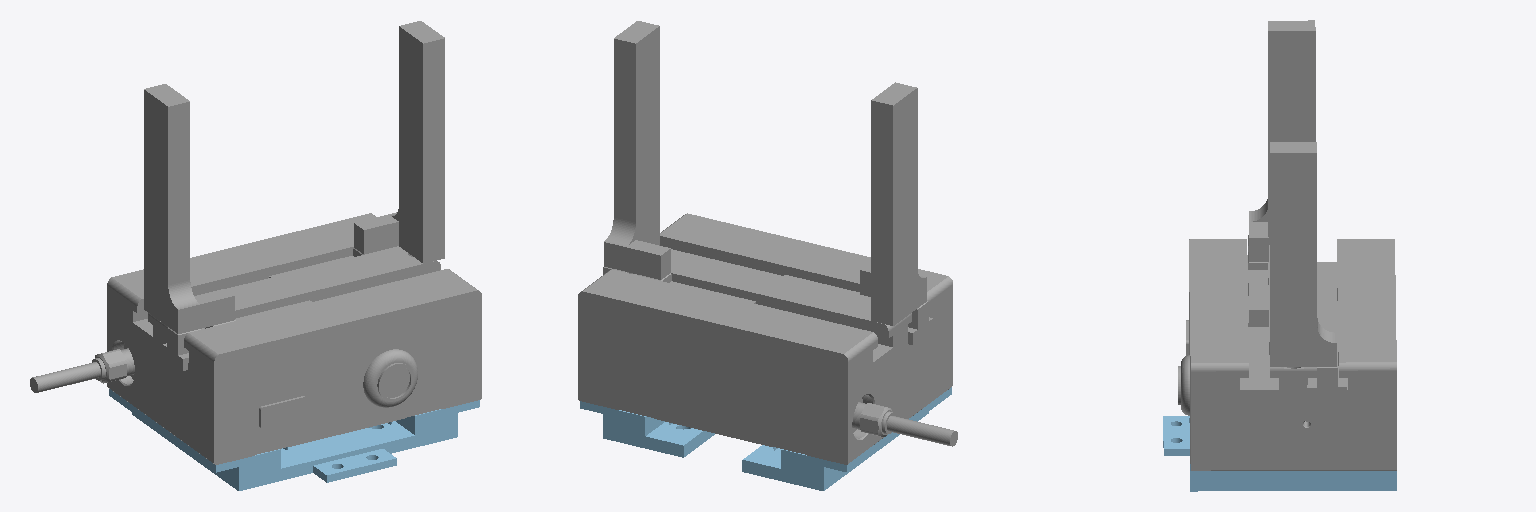
robot.urdf — onshape:
<?xml version="1.0"?>
<robot name="onshape">
<link name="ffld_0850ncn30_lksr00_0__6">
<visual>
<origin xyz="0.057499581136592189945 0.0002219151046475575928 0.012999999465240053009" rpy="1.5707963197624172924 -9.3043403012065366432e-09 -3.1383258088491423621" />
<geometry>
<mesh filename="package://hc10_with_hand/meshes/end_effector/ffld_0850ncn30_lksr00_0__6.stl"/>
</geometry>
<material name="ffld_0850ncn30_lksr00_0__6_material">
<color rgba="0.68627450980392157298 0.68627450980392157298 0.68627450980392157298 1.0"/>
</material>
</visual>
<collision>
<origin xyz="0.057499581136592189945 0.0002219151046475575928 0.012999999465240053009" rpy="1.5707963197624172924 -9.3043403012065366432e-09 -3.1383258088491423621" />
<geometry>
<mesh filename="package://hc10_with_hand/meshes/end_effector/ffld_0850ncn30_lksr00_0__6.stl"/>
</geometry>
</collision>
<visual>
<origin xyz="0.05749958580022360155 0.00022191160362493300706 0.51299999946524066363" rpy="1.5707963197624170704 -9.3043400791619201376e-09 -3.138325808849141918" />
<geometry>
<mesh filename="package://hc10_with_hand/meshes/end_effector/support_end_effector.stl"/>
</geometry>
<material name="support_end_effector_material">
<color rgba="0.61568627450980395466 0.81176470588235294379 0.92941176470588238168 1.0"/>
</material>
</visual>
<collision>
<origin xyz="0.05749958580022360155 0.00022191160362493300706 0.51299999946524066363" rpy="1.5707963197624170704 -9.3043400791619201376e-09 -3.138325808849141918" />
<geometry>
<mesh filename="package://hc10_with_hand/meshes/end_effector/support_end_effector.stl"/>
</geometry>
</collision>
<inertial>
<origin xyz="-0.00017126631209801696865 -0.00032653912656861961089 0.030493844274670250938" rpy="0 0 0"/>
<mass value="3.4288288466821317257" />
<inertia ixx="0.0026643899238821475151" ixy="1.9310818192341067736e-05"  ixz="-1.8863578809773853332e-06" iyy="0.0046541737804580655263" iyz="-2.722204356959638443e-05" izz="0.0057254196930952875808" />
</inertial>
</link>

<link name="center_finger">
<inertial>
<origin xyz="0 0 0" rpy="0 0 0" />
<mass value="1e-9" />
<inertia ixx="0" ixy="0" ixz="0" iyy="0" iyz="0" izz="0" />
</inertial>
</link>
<joint name="center_finger_frame" type="fixed">
<origin xyz="-1.1077846807888816674e-07 3.4070920897401199773e-05 0.14800000000023966207" rpy="9.3043391731287407411e-09 -7.0324789191894066792e-09 1.574063171535547534" />
<parent link="ffld_0850ncn30_lksr00_0__6" />
<child link="center_finger" />
<axis xyz="0 0 0"/>
</joint>

<link name="end_effector_center">
<inertial>
<origin xyz="0 0 0" rpy="0 0 0" />
<mass value="1e-9" />
<inertia ixx="0" ixy="0" ixz="0" iyy="0" iyz="0" izz="0" />
</inertial>
</link>
<joint name="end_effector_center_frame" type="fixed">
<origin xyz="1.2125441276045201278e-10 -9.1026602921928656542e-11 0.012999999999999997669" rpy="9.3043401069174907901e-09 -7.0324793788390369411e-09 1.5740631715355455356" />
<parent link="ffld_0850ncn30_lksr00_0__6" />
<child link="end_effector_center" />
<axis xyz="0 0 0"/>
</joint>

<link name="arm_to_hand">
<inertial>
<origin xyz="0 0 0" rpy="0 0 0" />
<mass value="1e-9" />
<inertia ixx="0" ixy="0" ixz="0" iyy="0" iyz="0" izz="0" />
</inertial>
</link>
<joint name="arm_to_hand_frame" type="fixed">
<origin xyz="0 0 0" rpy="7.0324800430257777421e-09 9.3043403012065234083e-09 0.003266844740651022802" />
<parent link="arm_to_hand" />
<child link="ffld_0850ncn30_lksr00_0__6" />
<axis xyz="0 0 0"/>
</joint>

<link name="hand_to_camera">
<inertial>
<origin xyz="0 0 0" rpy="0 0 0" />
<mass value="1e-9" />
<inertia ixx="0" ixy="0" ixz="0" iyy="0" iyz="0" izz="0" />
</inertial>
</link>
<joint name="hand_to_camera_frame" type="fixed">
<origin xyz="-0.0073555144854190873671 -0.044240193231909627491 0.002999999758834949893" rpy="7.0324804106860020408e-09 9.3043403012065366432e-09 0.0032668447406510223684" />
<parent link="ffld_0850ncn30_lksr00_0__6" />
<child link="hand_to_camera" />
<axis xyz="0 0 0"/>
</joint>

<link name="ffld_0850ncn30_lksr00_0__3">
<visual>
<origin xyz="-0.013499999999999998113 -0.012699999999999997749 0.009799999999999940703" rpy="1.570796326794896558 1.570796326794896336 0" />
<geometry>
<mesh filename="package://hc10_with_hand/meshes/end_effector/ffld_0850ncn30_lksr00_0__3.stl"/>
</geometry>
<material name="ffld_0850ncn30_lksr00_0__3_material">
<color rgba="0.68627450980392157298 0.68627450980392157298 0.68627450980392157298 1.0"/>
</material>
</visual>
<collision>
<origin xyz="-0.013499999999999998113 -0.012699999999999997749 0.009799999999999940703" rpy="1.570796326794896558 1.570796326794896336 0" />
<geometry>
<mesh filename="package://hc10_with_hand/meshes/end_effector/ffld_0850ncn30_lksr00_0__3.stl"/>
</geometry>
</collision>
<inertial>
<origin xyz="0.026010155325234741996 -0.0047355803699542942803 -0.0032141138333249830161" rpy="0 0 0"/>
<mass value="0.19285564776873392878" />
<inertia ixx="5.5202859436152247683e-05" ixy="-2.9112780924458249069e-05"  ixz="-5.23746968336353535e-05" iyy="0.00024511850474100843611" iyz="-1.2232725957805765321e-05" izz="0.00021268038410786007817" />
</inertial>
</link>

<joint name="fing1" type="fixed">
<origin xyz="-0.049999844811295074409 -0.0001292703954122835508 0.058000000465456696963" rpy="0.0032668447406510748438 -1.5707963151318564687 0" />
<parent link="ffld_0850ncn30_lksr00_0__6" />
<child link="ffld_0850ncn30_lksr00_0__3" />
<axis xyz="0 0 1"/>
<limit effort="1" velocity="20" lower="0" upper="0.050000000000000002776"/>
<joint_properties friction="0.0"/>
</joint>

<link name="ffld_0850ncn30_lksr00_0__3_2">
<visual>
<origin xyz="-0.013499999999999991174 -0.012699999999999999484 0.009799999999999940703" rpy="1.570796326794896558 1.570796326794896336 0" />
<geometry>
<mesh filename="package://hc10_with_hand/meshes/end_effector/ffld_0850ncn30_lksr00_0__3.stl"/>
</geometry>
<material name="ffld_0850ncn30_lksr00_0__3_material">
<color rgba="0.68627450980392157298 0.68627450980392157298 0.68627450980392157298 1.0"/>
</material>
</visual>
<collision>
<origin xyz="-0.013499999999999991174 -0.012699999999999999484 0.009799999999999940703" rpy="1.570796326794896558 1.570796326794896336 0" />
<geometry>
<mesh filename="package://hc10_with_hand/meshes/end_effector/ffld_0850ncn30_lksr00_0__3.stl"/>
</geometry>
</collision>
<inertial>
<origin xyz="0.026010155325234748935 -0.004735580369954296015 -0.0032141138333249830161" rpy="0 0 0"/>
<mass value="0.19285564776873392878" />
<inertia ixx="5.5202859436152247683e-05" ixy="-2.9112780924458249069e-05"  ixz="-5.23746968336353535e-05" iyy="0.00024511850474100843611" iyz="-1.2232725957805765321e-05" izz="0.00021268038410786007817" />
</inertial>
</link>

<joint name="fing2" type="fixed">
<origin xyz="0.049999621575451499988 0.0001974134975754153476 0.057999999535022675468" rpy="-3.1383258088491423621 -1.5707963151318573569 0" />
<parent link="ffld_0850ncn30_lksr00_0__6" />
<child link="ffld_0850ncn30_lksr00_0__3_2" />
<axis xyz="0 0 1"/>
<limit effort="1" velocity="20" lower="0" upper="0.050000000000000002776"/>
<joint_properties friction="0.0"/>
</joint>


</robot>

--- Facts derived from the render (not from the file) ---
Views: 3 orthographic renders of the robot side by side, from view 1: azimuth 30°, elevation 25°; view 2: azimuth 150°, elevation 25°; view 3: azimuth 270°, elevation 25°.
Robot: onshape — 7 links, 6 joints (6 fixed); root link arm_to_hand; default pose: every joint at zero.
Links seen in each view (by area): view 1: ffld_0850ncn30_lksr00_0__6, ffld_0850ncn30_lksr00_0__3, ffld_0850ncn30_lksr00_0__3_2; view 2: ffld_0850ncn30_lksr00_0__6, ffld_0850ncn30_lksr00_0__3_2, ffld_0850ncn30_lksr00_0__3; view 3: ffld_0850ncn30_lksr00_0__6, ffld_0850ncn30_lksr00_0__3_2, ffld_0850ncn30_lksr00_0__3.
Boxes of the visible links, bbox=[...] form: ffld_0850ncn30_lksr00_0__6: bbox=[30, 213, 481, 490]; ffld_0850ncn30_lksr00_0__3: bbox=[144, 84, 311, 370]; ffld_0850ncn30_lksr00_0__3_2: bbox=[269, 21, 444, 277]; ffld_0850ncn30_lksr00_0__6: bbox=[578, 213, 957, 490]; ffld_0850ncn30_lksr00_0__3_2: bbox=[603, 21, 755, 303]; ffld_0850ncn30_lksr00_0__3: bbox=[784, 82, 932, 344]; ffld_0850ncn30_lksr00_0__6: bbox=[1163, 239, 1396, 491]; ffld_0850ncn30_lksr00_0__3_2: bbox=[1270, 142, 1346, 398]; ffld_0850ncn30_lksr00_0__3: bbox=[1247, 20, 1315, 326].
Bounding box of the posed robot: 0.1558 × 0.089 × 0.148 m (x, y, z).
4 mesh visuals loaded from 3 distinct referenced files (3 binary STL).